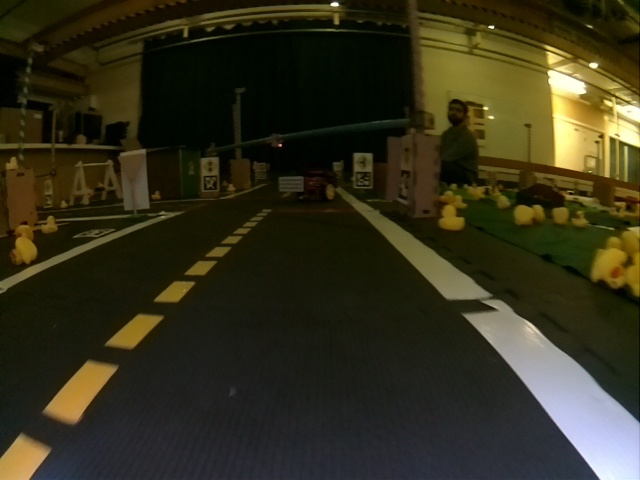Duckie: (592, 249, 627, 288), (10, 238, 36, 264), (440, 206, 464, 230), (515, 206, 533, 224), (15, 226, 34, 241), (41, 216, 57, 233), (553, 208, 569, 223), (6, 157, 18, 169)
Duckiebot: (277, 169, 337, 200)
Intersection sign: (400, 138, 413, 165), (354, 154, 373, 170)
QR code: (397, 169, 411, 203), (74, 228, 114, 238), (355, 171, 373, 188), (202, 176, 217, 191)
